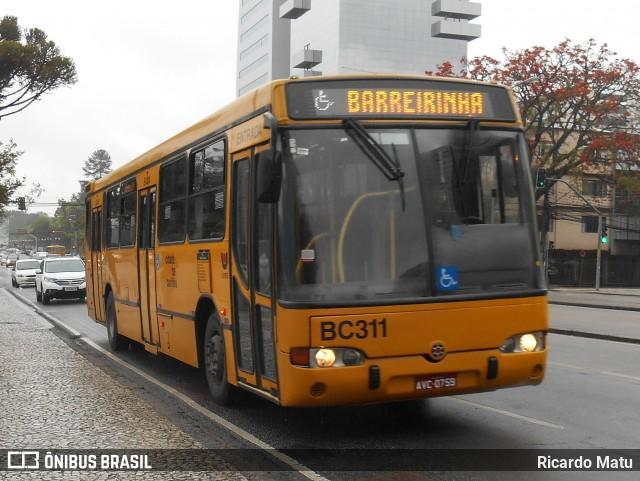BARREIRINHA: (339, 85, 487, 117)
